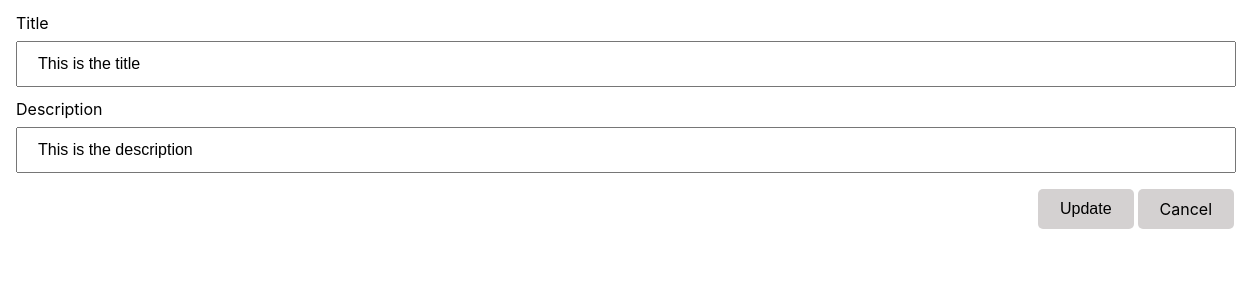
Test: check validations › check validation when updating
Clear the field labelled "Title" at (626, 64), box [16,41,1236,87]
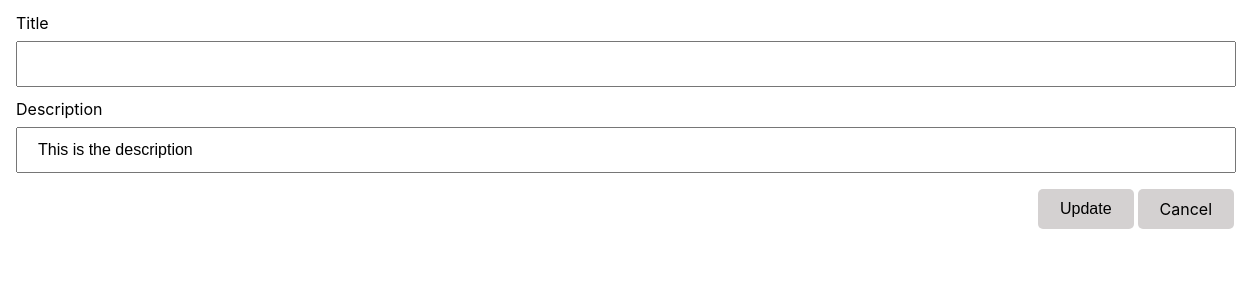
Click the button "Update".
click(1086, 209)  # box [1038,189,1134,229]
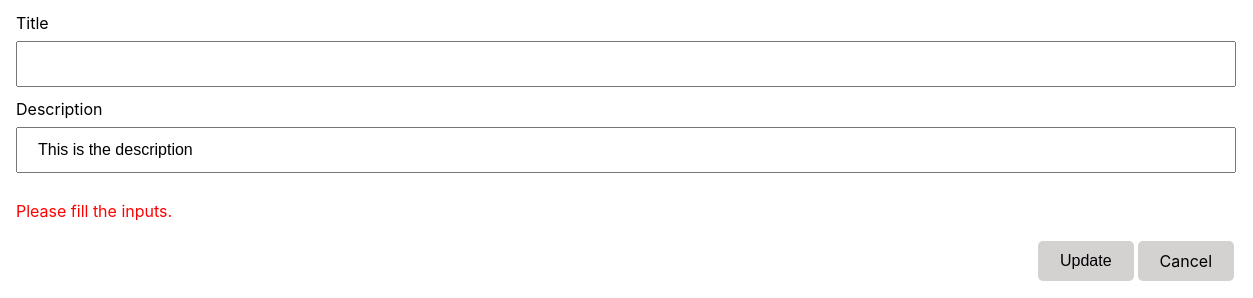
Result: the text "Please fill the inputs." is shown at [16,201,172,221]
